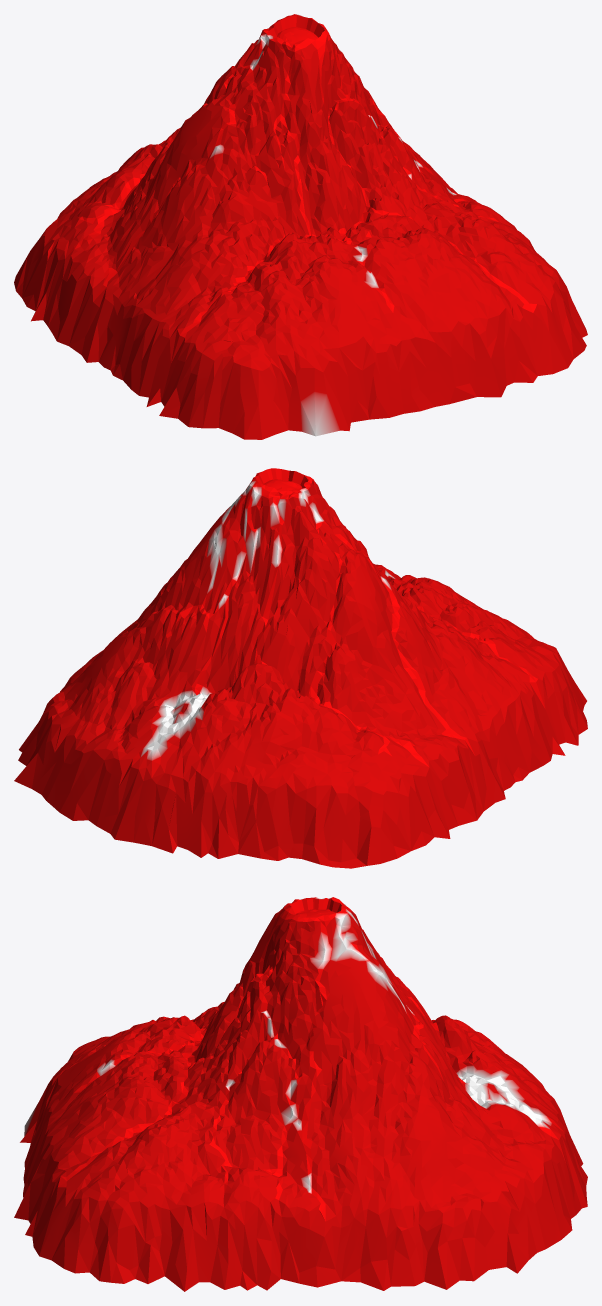
File: SM_LargeVolcano_1.FBX
3 renders of one model, top to bottom at view 1: azimuth 30°, elevation 25°; view 2: azimuth 150°, elevation 25°; view 3: azimuth 270°, elevation 25°, orthographic. The views are drawn at different scales.
Parts seen in each view (by area): view 1: SM_LargeVolcano_1; view 2: SM_LargeVolcano_1; view 3: SM_LargeVolcano_1.
Boxes of the visible parts, x1=… form: SM_LargeVolcano_1: x1=14, y1=14, x2=587, y2=439; SM_LargeVolcano_1: x1=14, y1=468, x2=587, y2=868; SM_LargeVolcano_1: x1=14, y1=897, x2=587, y2=1291.
Size of the model in its own units: 133476 by 152581 by 83515.
